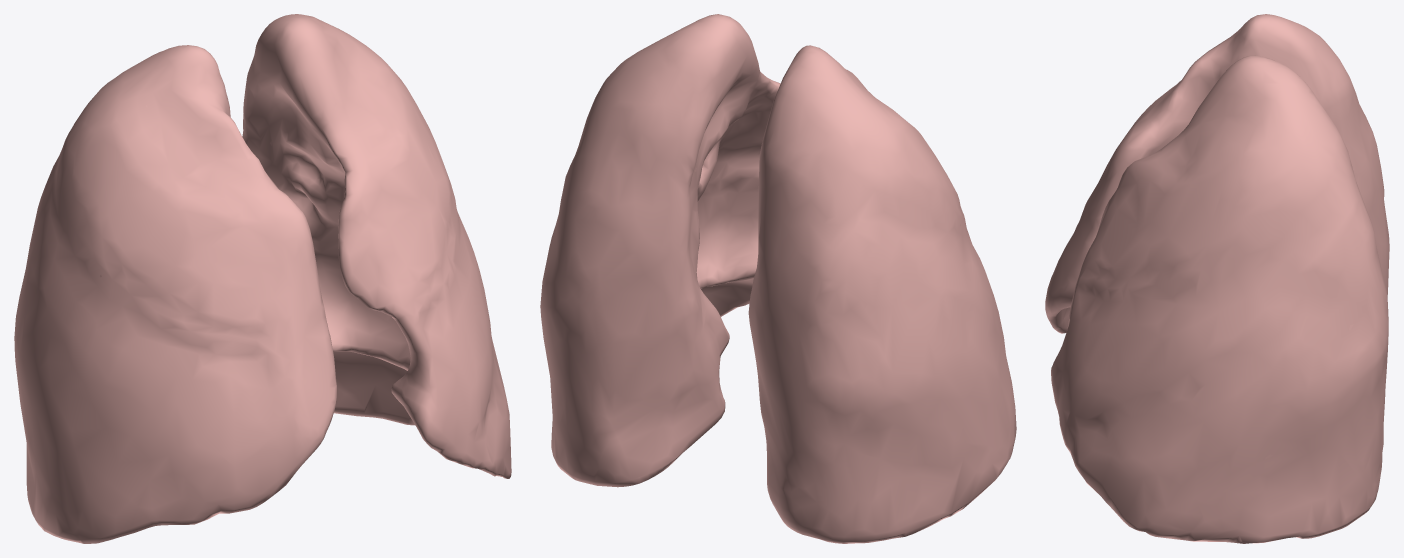
Rendered from respiratory.thorax.glb.
3 renders of one model, left to right at view 1: azimuth 30°, elevation 25°; view 2: azimuth 150°, elevation 25°; view 3: azimuth 270°, elevation 25°, orthographic. The views are drawn at different scales.
Visible parts, largest first — view 1: pleura; view 2: pleura; view 3: pleura.
Part boxes in pixels (x1=…): pleura: x1=14, y1=14, x2=511, y2=543; pleura: x1=540, y1=14, x2=1016, y2=543; pleura: x1=1045, y1=14, x2=1389, y2=543.
Size of the model in its own units: 0.2515 by 0.2571 by 0.1916.
